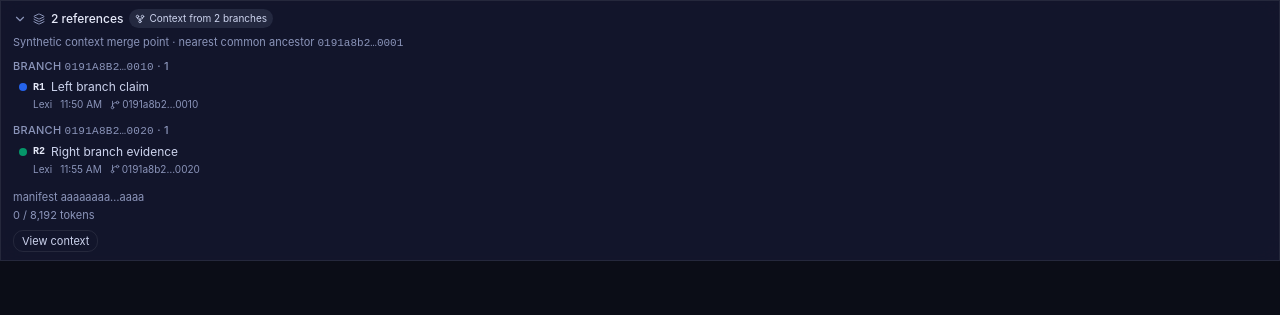
Test: ReferenceInspectorPanel — View context › reports a source that changed since creation
The image size is (1280, 315).
Click the button with test id "reference-view-context" at coordinates (56, 241), box x1=13 y1=230 x2=98 y2=252
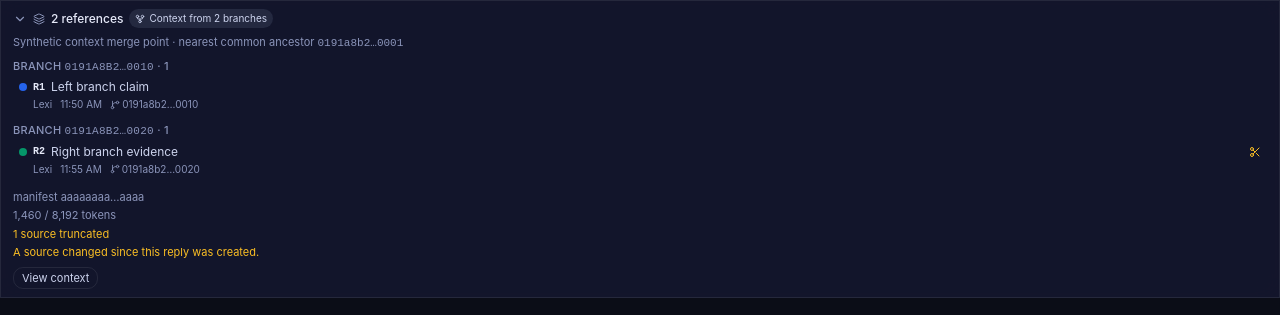
Now the text "A source changed since this reply was created." is shown, box x1=13 y1=245 x2=259 y2=259
